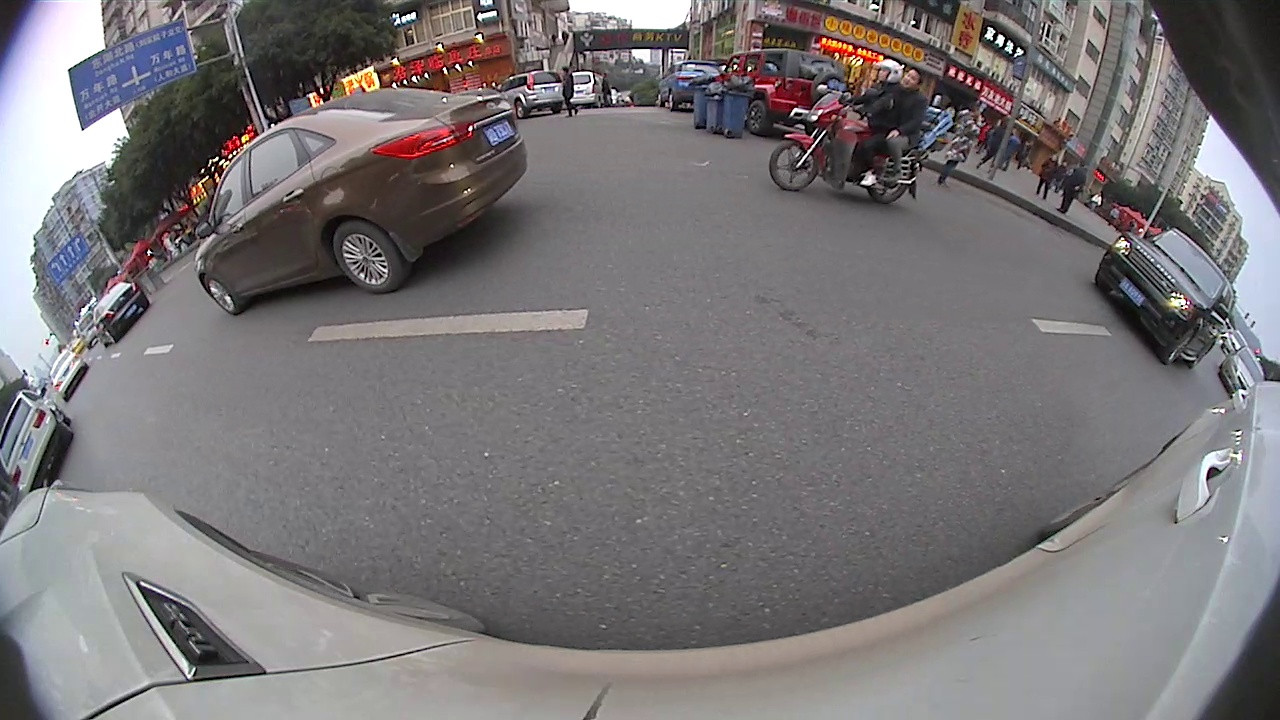car: (192, 87, 527, 317), (1090, 226, 1237, 376), (708, 36, 852, 136), (1, 384, 79, 497), (656, 54, 720, 123), (90, 274, 148, 348), (501, 63, 570, 114), (1220, 341, 1269, 400), (561, 67, 620, 113), (49, 345, 93, 396)
front: (766, 134, 822, 194), (200, 270, 245, 317)
rear: (327, 217, 406, 297), (863, 155, 917, 207)
rider: (769, 58, 953, 210)
